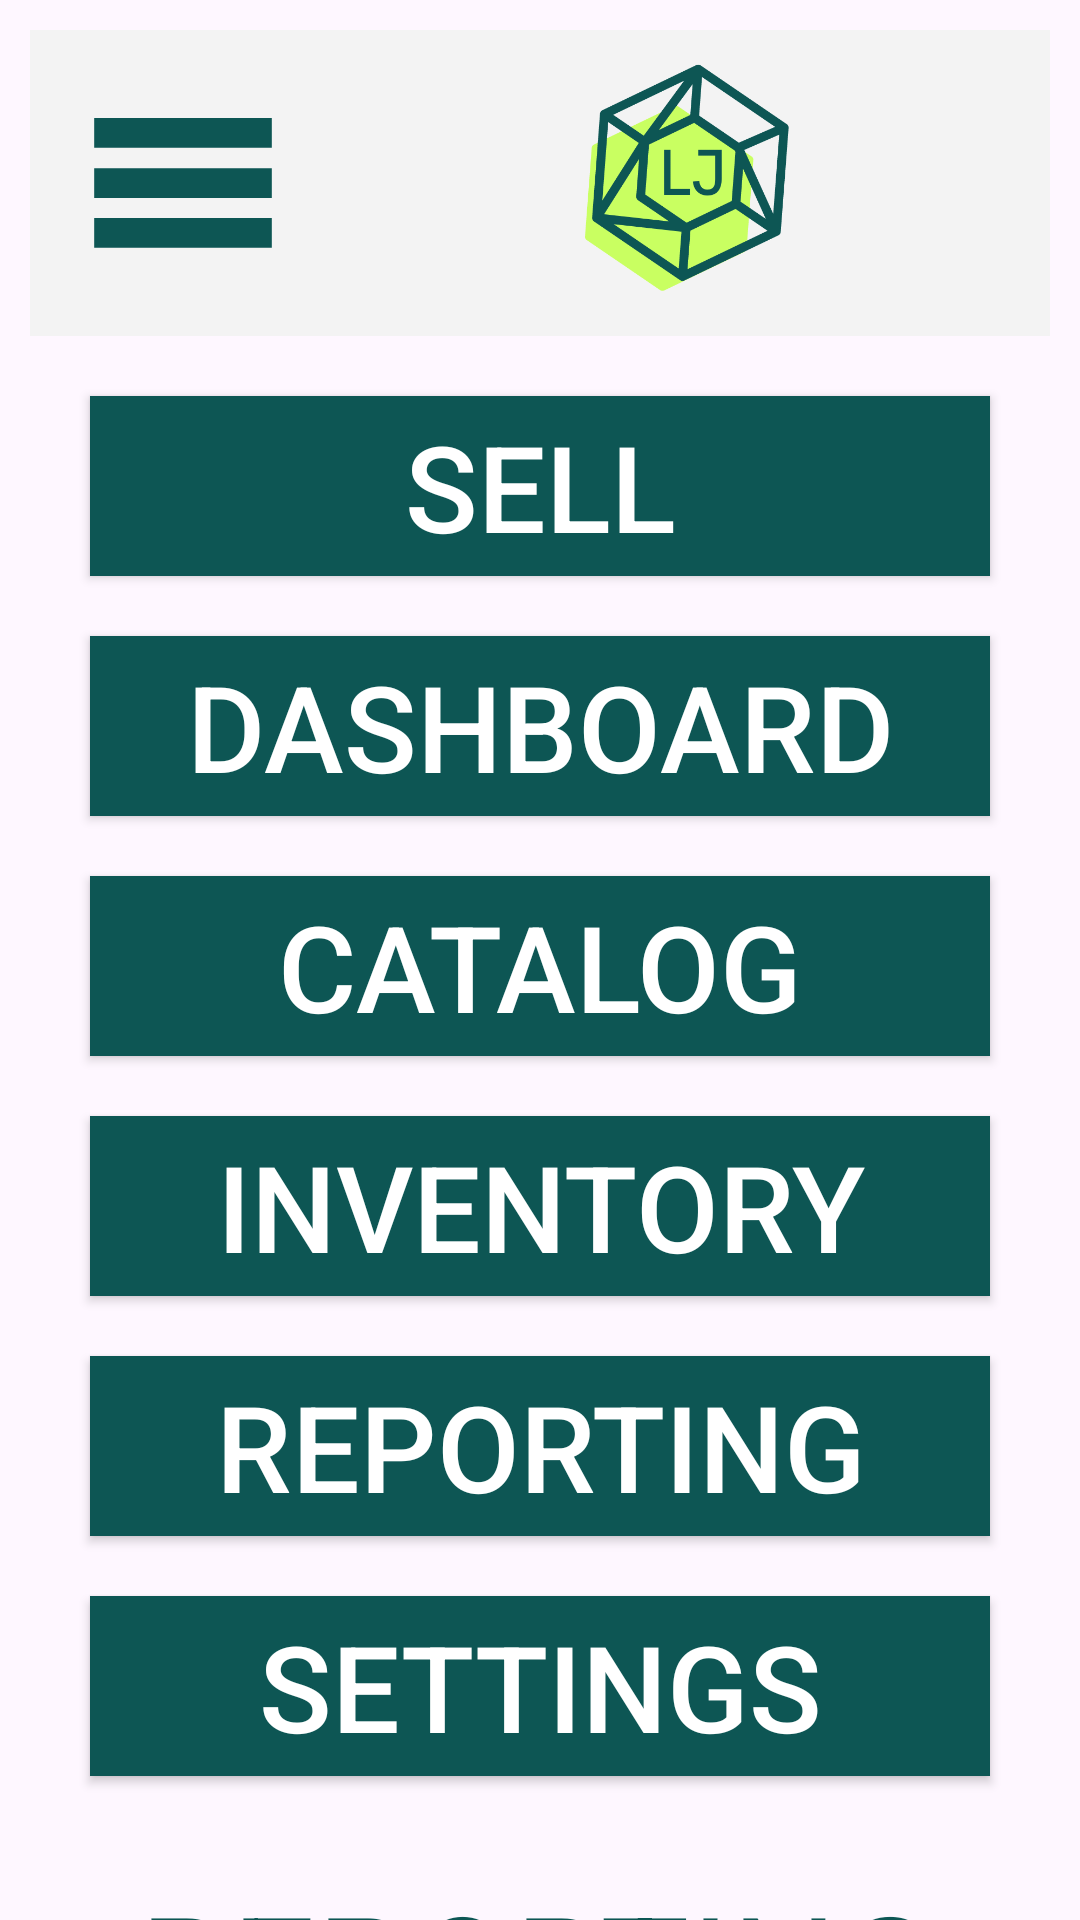

Where icons sit on this 1080*1920 app screen, as rect(x1, y1, x2, y2):
hamburgicon: rect(94, 118, 272, 248)
